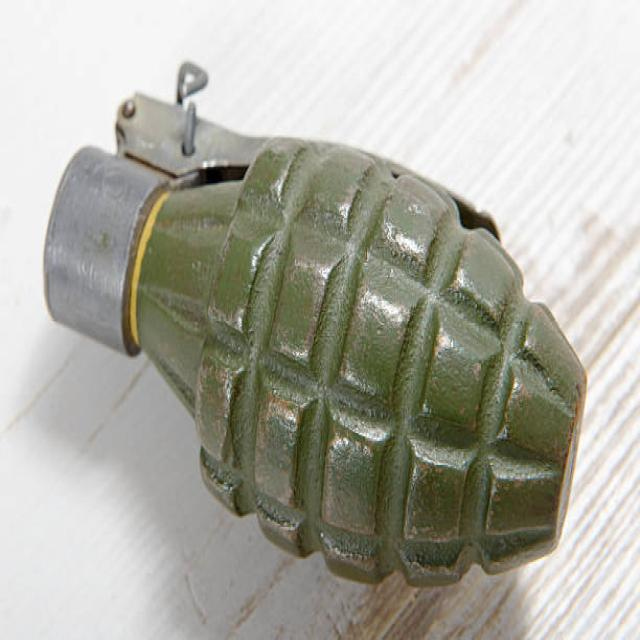grenade: (38, 54, 590, 593)
